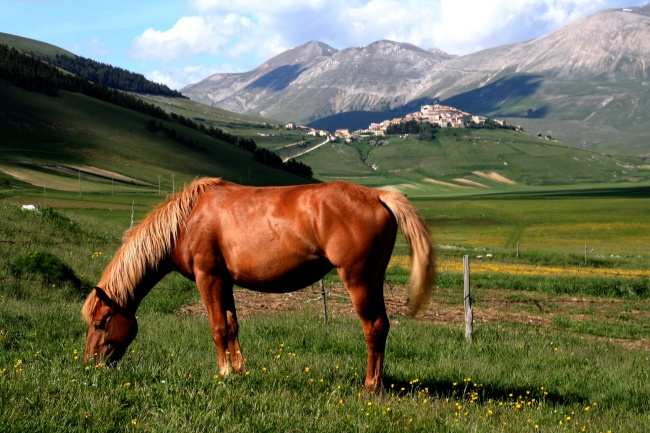horse: (80, 175, 440, 394)
